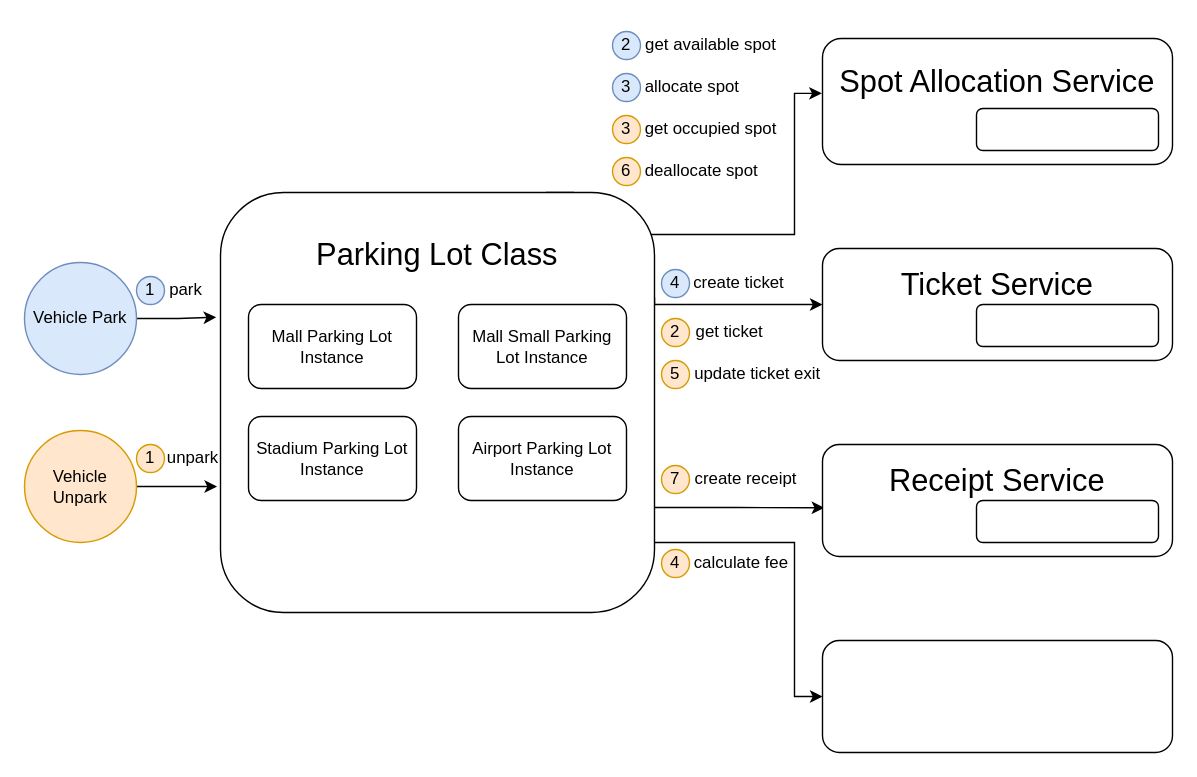
Image size: 1197x777. Some labels were removed from this diagram. The shapes that lost their labels are listed below. From the top down, each one's centre as x and y in pixels, then its label:
At point (1066, 128): "Spot Repository".
At point (1066, 324): "Ticket Repository".
At point (1066, 520): "Receipt Repository".
At point (996, 695): "Fee Service different implementation for each parking lot instance".
